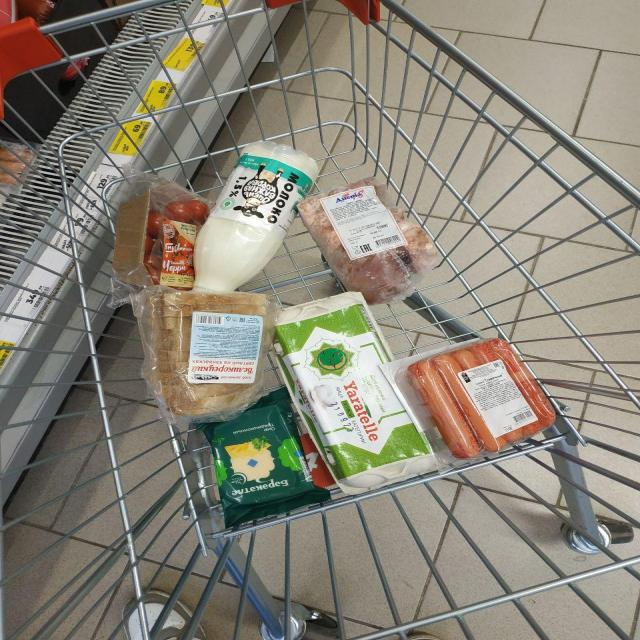cheese: (161, 252, 491, 640)
egg: (219, 228, 637, 640)
milk: (144, 105, 446, 306)
tomato: (74, 142, 232, 427), (65, 129, 225, 397), (98, 98, 284, 302), (77, 115, 222, 355), (90, 98, 255, 305), (82, 106, 233, 316)
